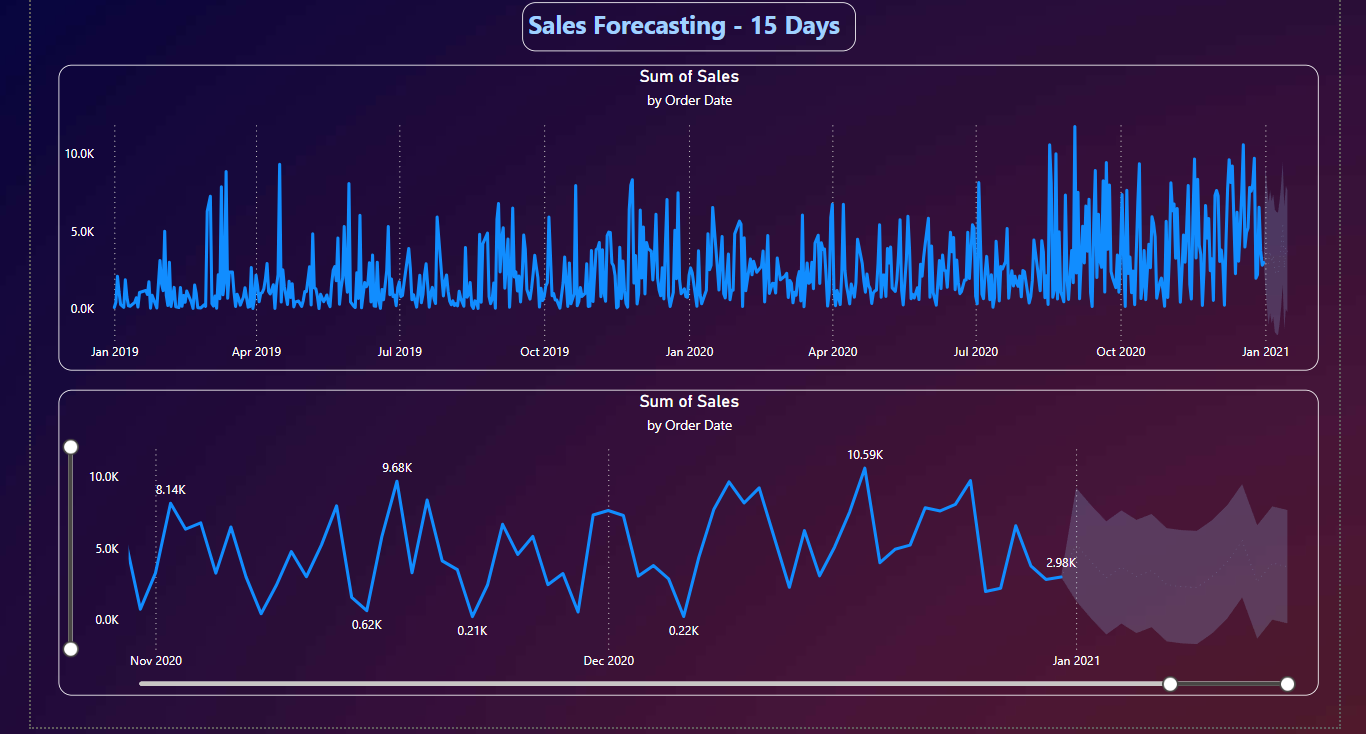

What the dashboard file says about the page in this screenshot:
{"tool":"powerbi","page":{"name":"Page 2","canvas":[1280,720],"ordinal":1},"visuals":[{"type":"lineChart","fields":{"Y":["Sum(SuperStore_Sales_Dataset.Sales)"],"Category":["SuperStore_Sales_Dataset.Order Date"]},"box":[26.9,72.1,1232.6,299.6],"z":0},{"type":"textbox","box":[480.6,11,326.5,47.7],"z":1000},{"type":"lineChart","fields":{"Y":["Sum(SuperStore_Sales_Dataset.Sales)"],"Category":["SuperStore_Sales_Dataset.Order Date"]},"box":[26.9,390.1,1232.6,299.6],"z":2000}]}

Visuals, with their boxes on the page's 1280x720 design canvas (x1, y1, x2, y2). These are canvas units, not pixel positions in the 1366x734 screenshot, which may show the page scaled, cropped or inside an application window:
lineChart - Sum(SuperStore_Sales_Dataset.Sales) x SuperStore_Sales_Dataset.Order Date: l=27, t=72, r=1260, b=372
textbox: l=481, t=11, r=807, b=59
lineChart - Sum(SuperStore_Sales_Dataset.Sales) x SuperStore_Sales_Dataset.Order Date: l=27, t=390, r=1260, b=690
